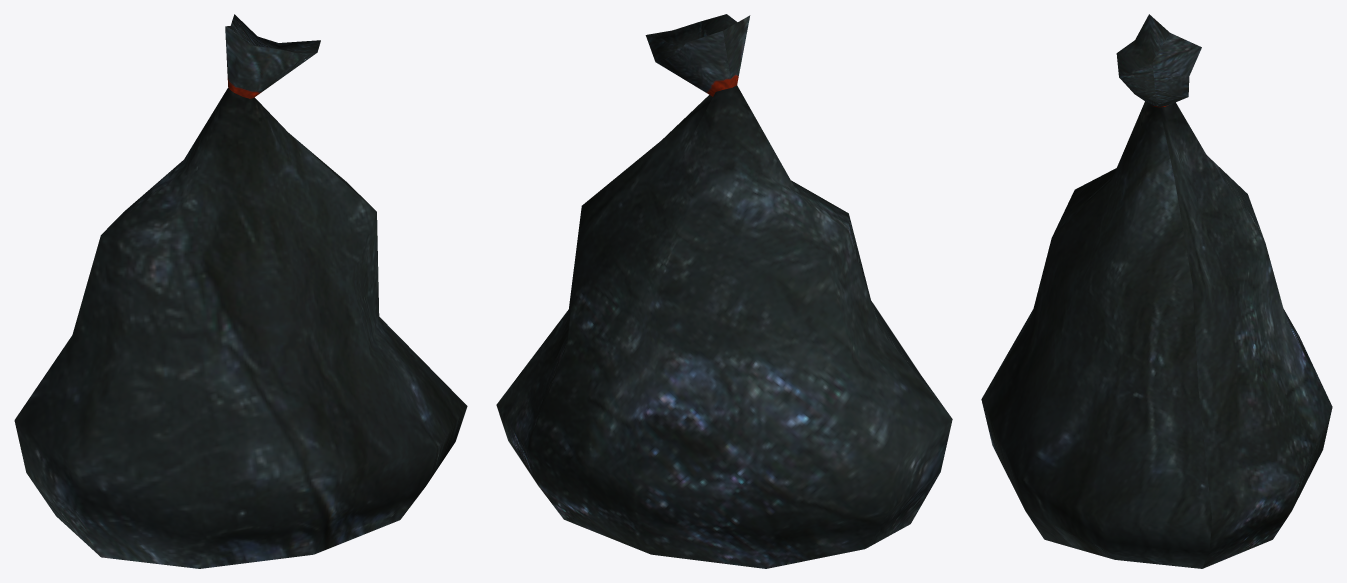
The model's file is TrashBag.fbx.
3 renders of one model, left to right at view 1: azimuth 30°, elevation 25°; view 2: azimuth 150°, elevation 25°; view 3: azimuth 270°, elevation 25°, orthographic. The views are drawn at different scales.
Visible parts, largest first — view 1: trashbag; view 2: trashbag; view 3: trashbag.
Boxes of the visible parts, x1=… form: trashbag: x1=14, y1=14, x2=467, y2=568; trashbag: x1=496, y1=14, x2=952, y2=568; trashbag: x1=981, y1=14, x2=1332, y2=568.
Bounding box in the file's own units: 66.74 × 77.57 × 52.71.
